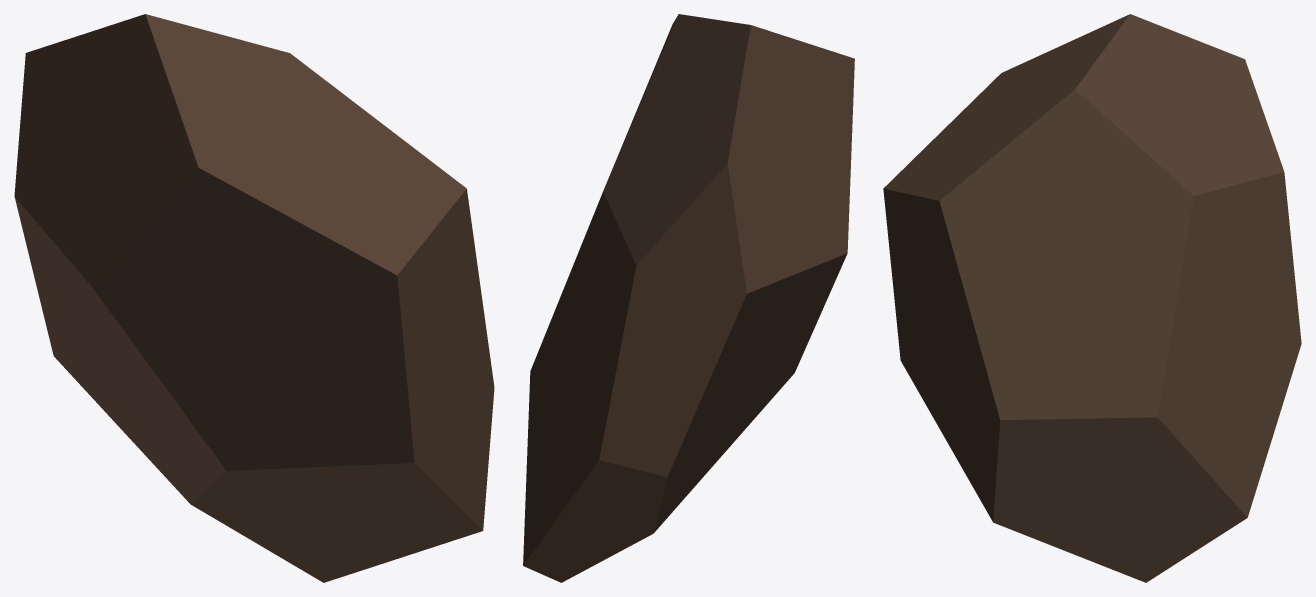
The model's file is Rock_Floor2_Shard2.fbx.
3 views of the same model, side by side, from view 1: azimuth 30°, elevation 25°; view 2: azimuth 150°, elevation 25°; view 3: azimuth 270°, elevation 25° (orthographic). The views are drawn at different scales.
Parts seen in each view (by area): view 1: Rock_Floor2_Shard2; view 2: Rock_Floor2_Shard2; view 3: Rock_Floor2_Shard2.
Part boxes in pixels (bbox=[...]): Rock_Floor2_Shard2: bbox=[14, 14, 494, 582]; Rock_Floor2_Shard2: bbox=[523, 14, 854, 582]; Rock_Floor2_Shard2: bbox=[883, 14, 1301, 582].
Size of the model in its own units: 97.69 by 169 by 129.
